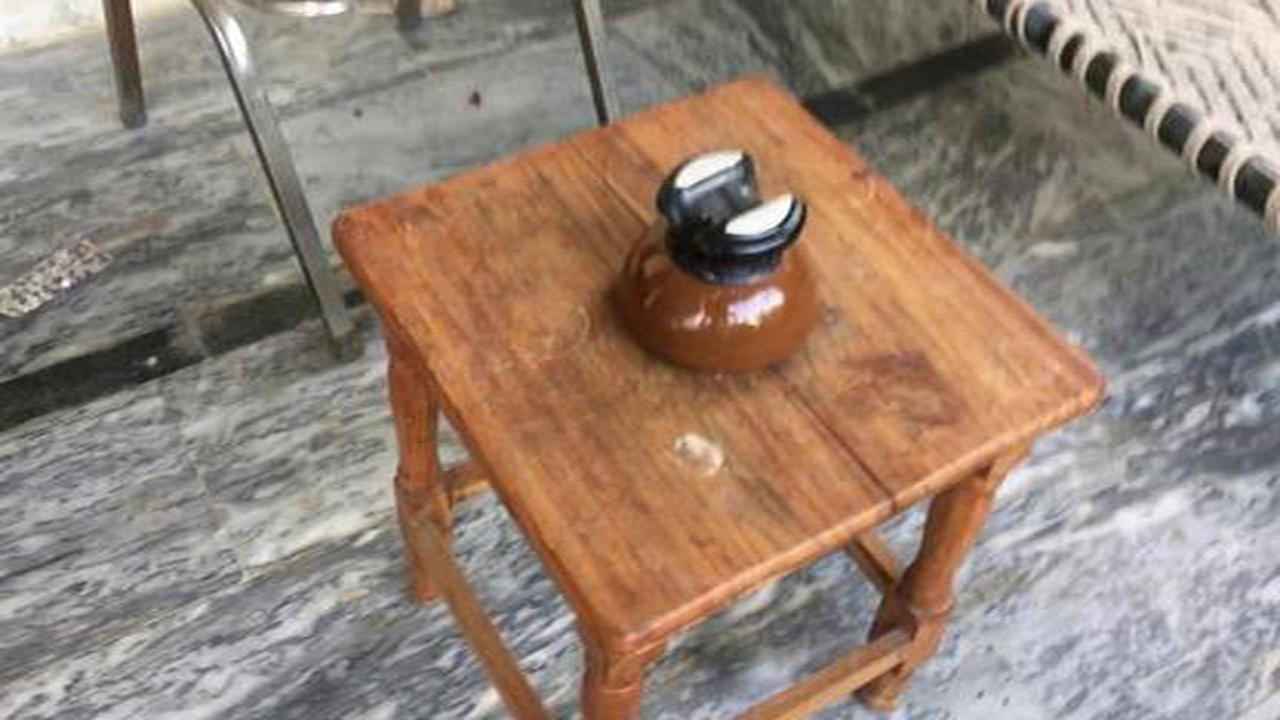insulator_pin: (582, 134, 825, 395)
